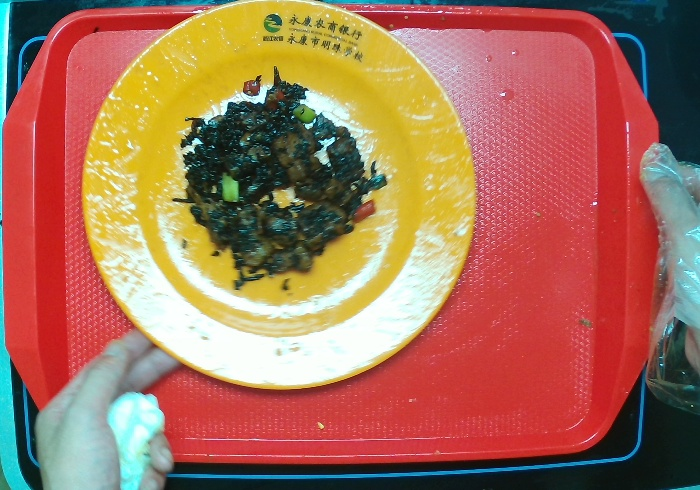YKMZ-Ju_Se_Mian_Pan: (79, 1, 478, 391)
